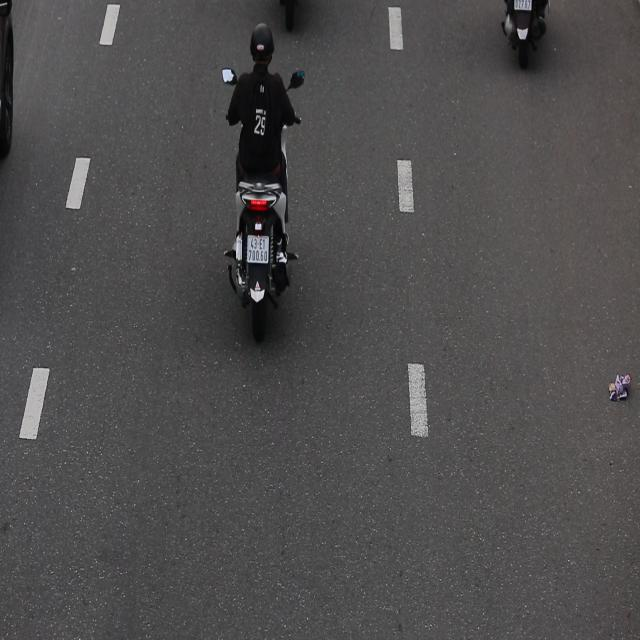motorbike: (215, 22, 310, 382)
